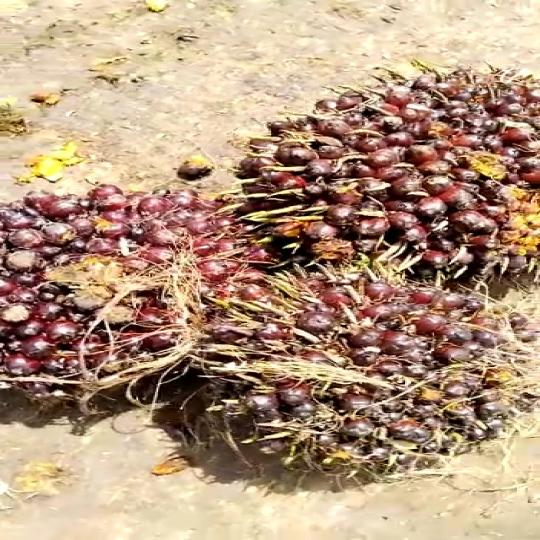kurang masak: (155, 268, 540, 478), (222, 63, 540, 279), (0, 171, 248, 417)
